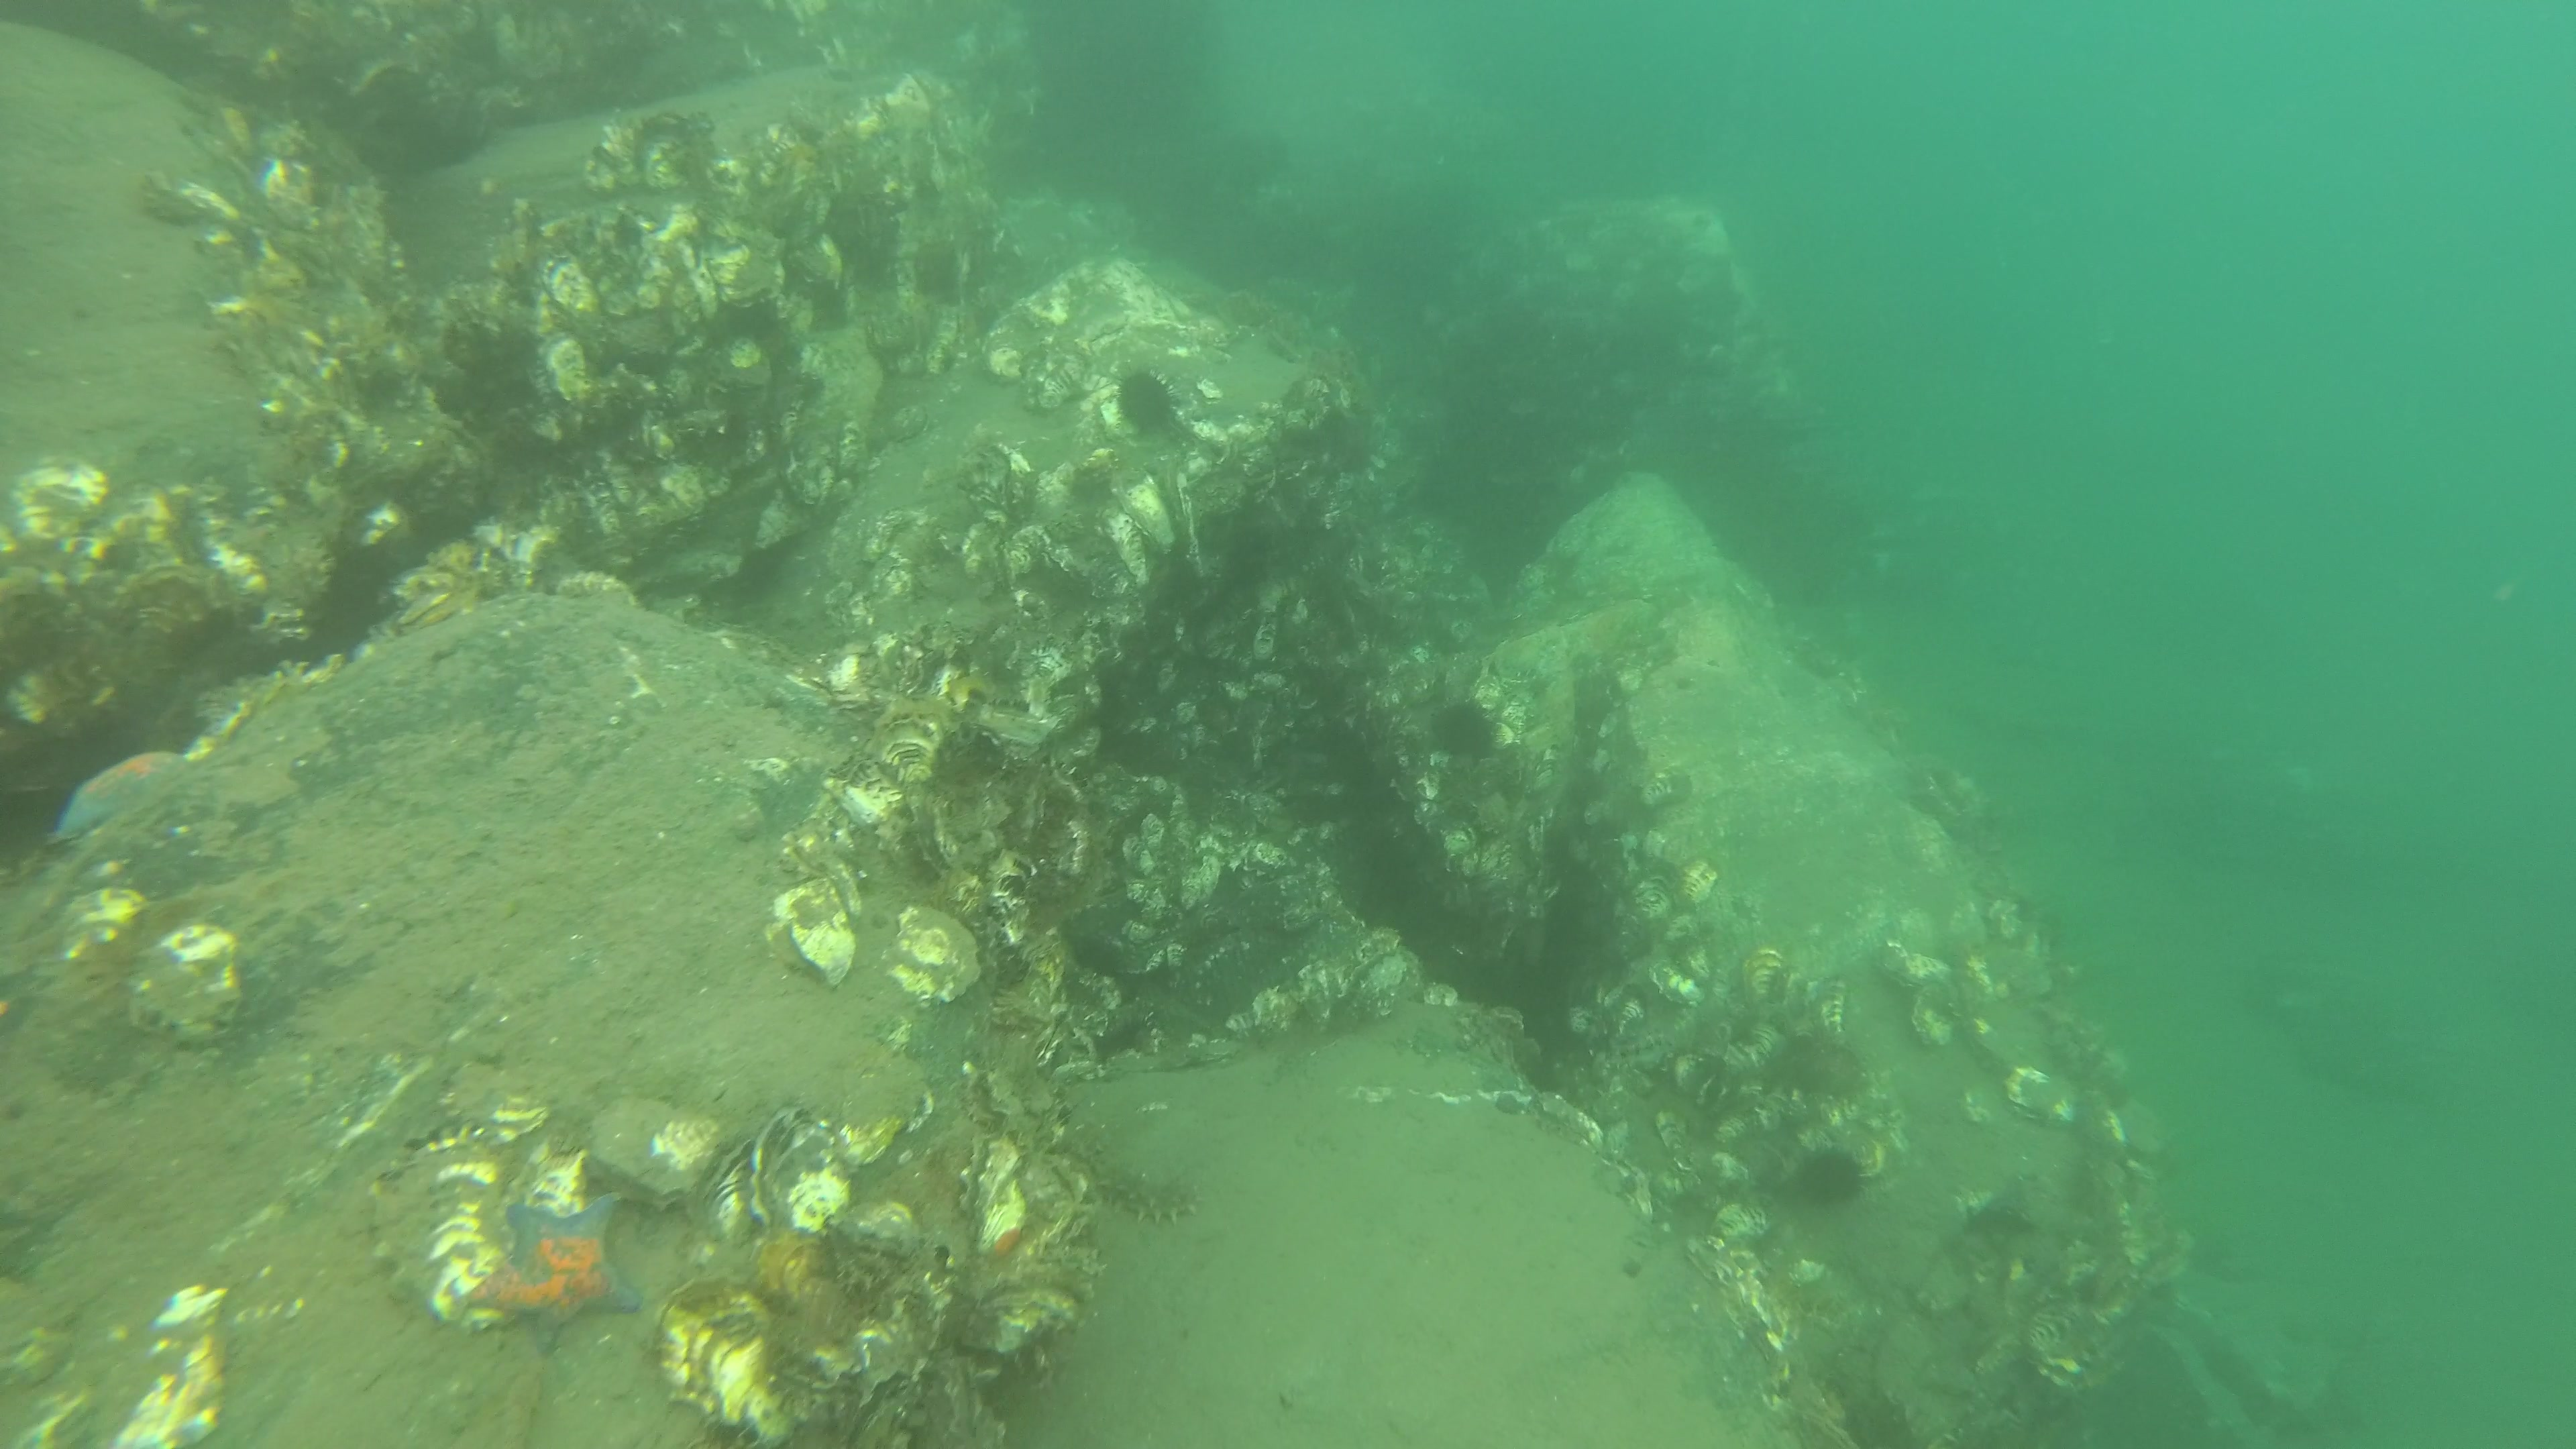echinus: (1785, 1030, 1861, 1104), (1422, 697, 1493, 766), (1111, 372, 1182, 439), (1798, 1152, 1865, 1214)
holothurian: (1093, 1175, 1201, 1223)
starfish: (465, 1205, 640, 1352), (50, 754, 184, 846)
